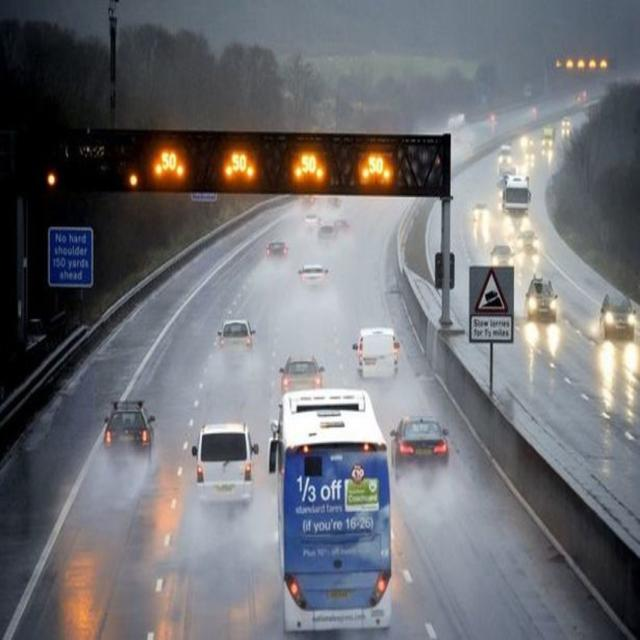bus: (501, 172, 532, 237)
car: (192, 425, 260, 509), (394, 416, 450, 466), (354, 327, 400, 379), (104, 406, 153, 450), (597, 289, 636, 340), (280, 356, 326, 398), (525, 276, 559, 323), (218, 319, 256, 359), (298, 262, 329, 286), (263, 240, 291, 266), (490, 244, 516, 269), (471, 200, 489, 221)
truck: (274, 398, 394, 607)
